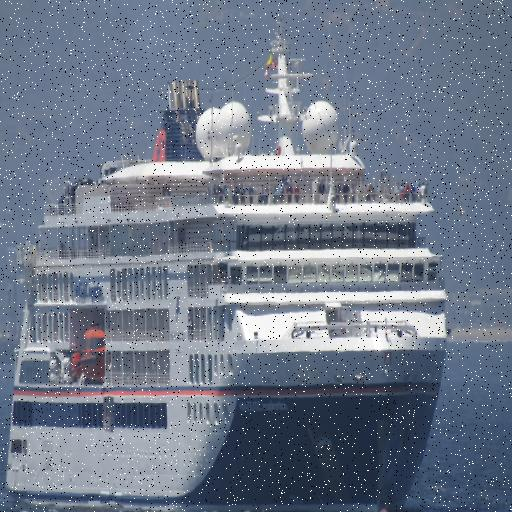cruises: (1, 19, 454, 512)
